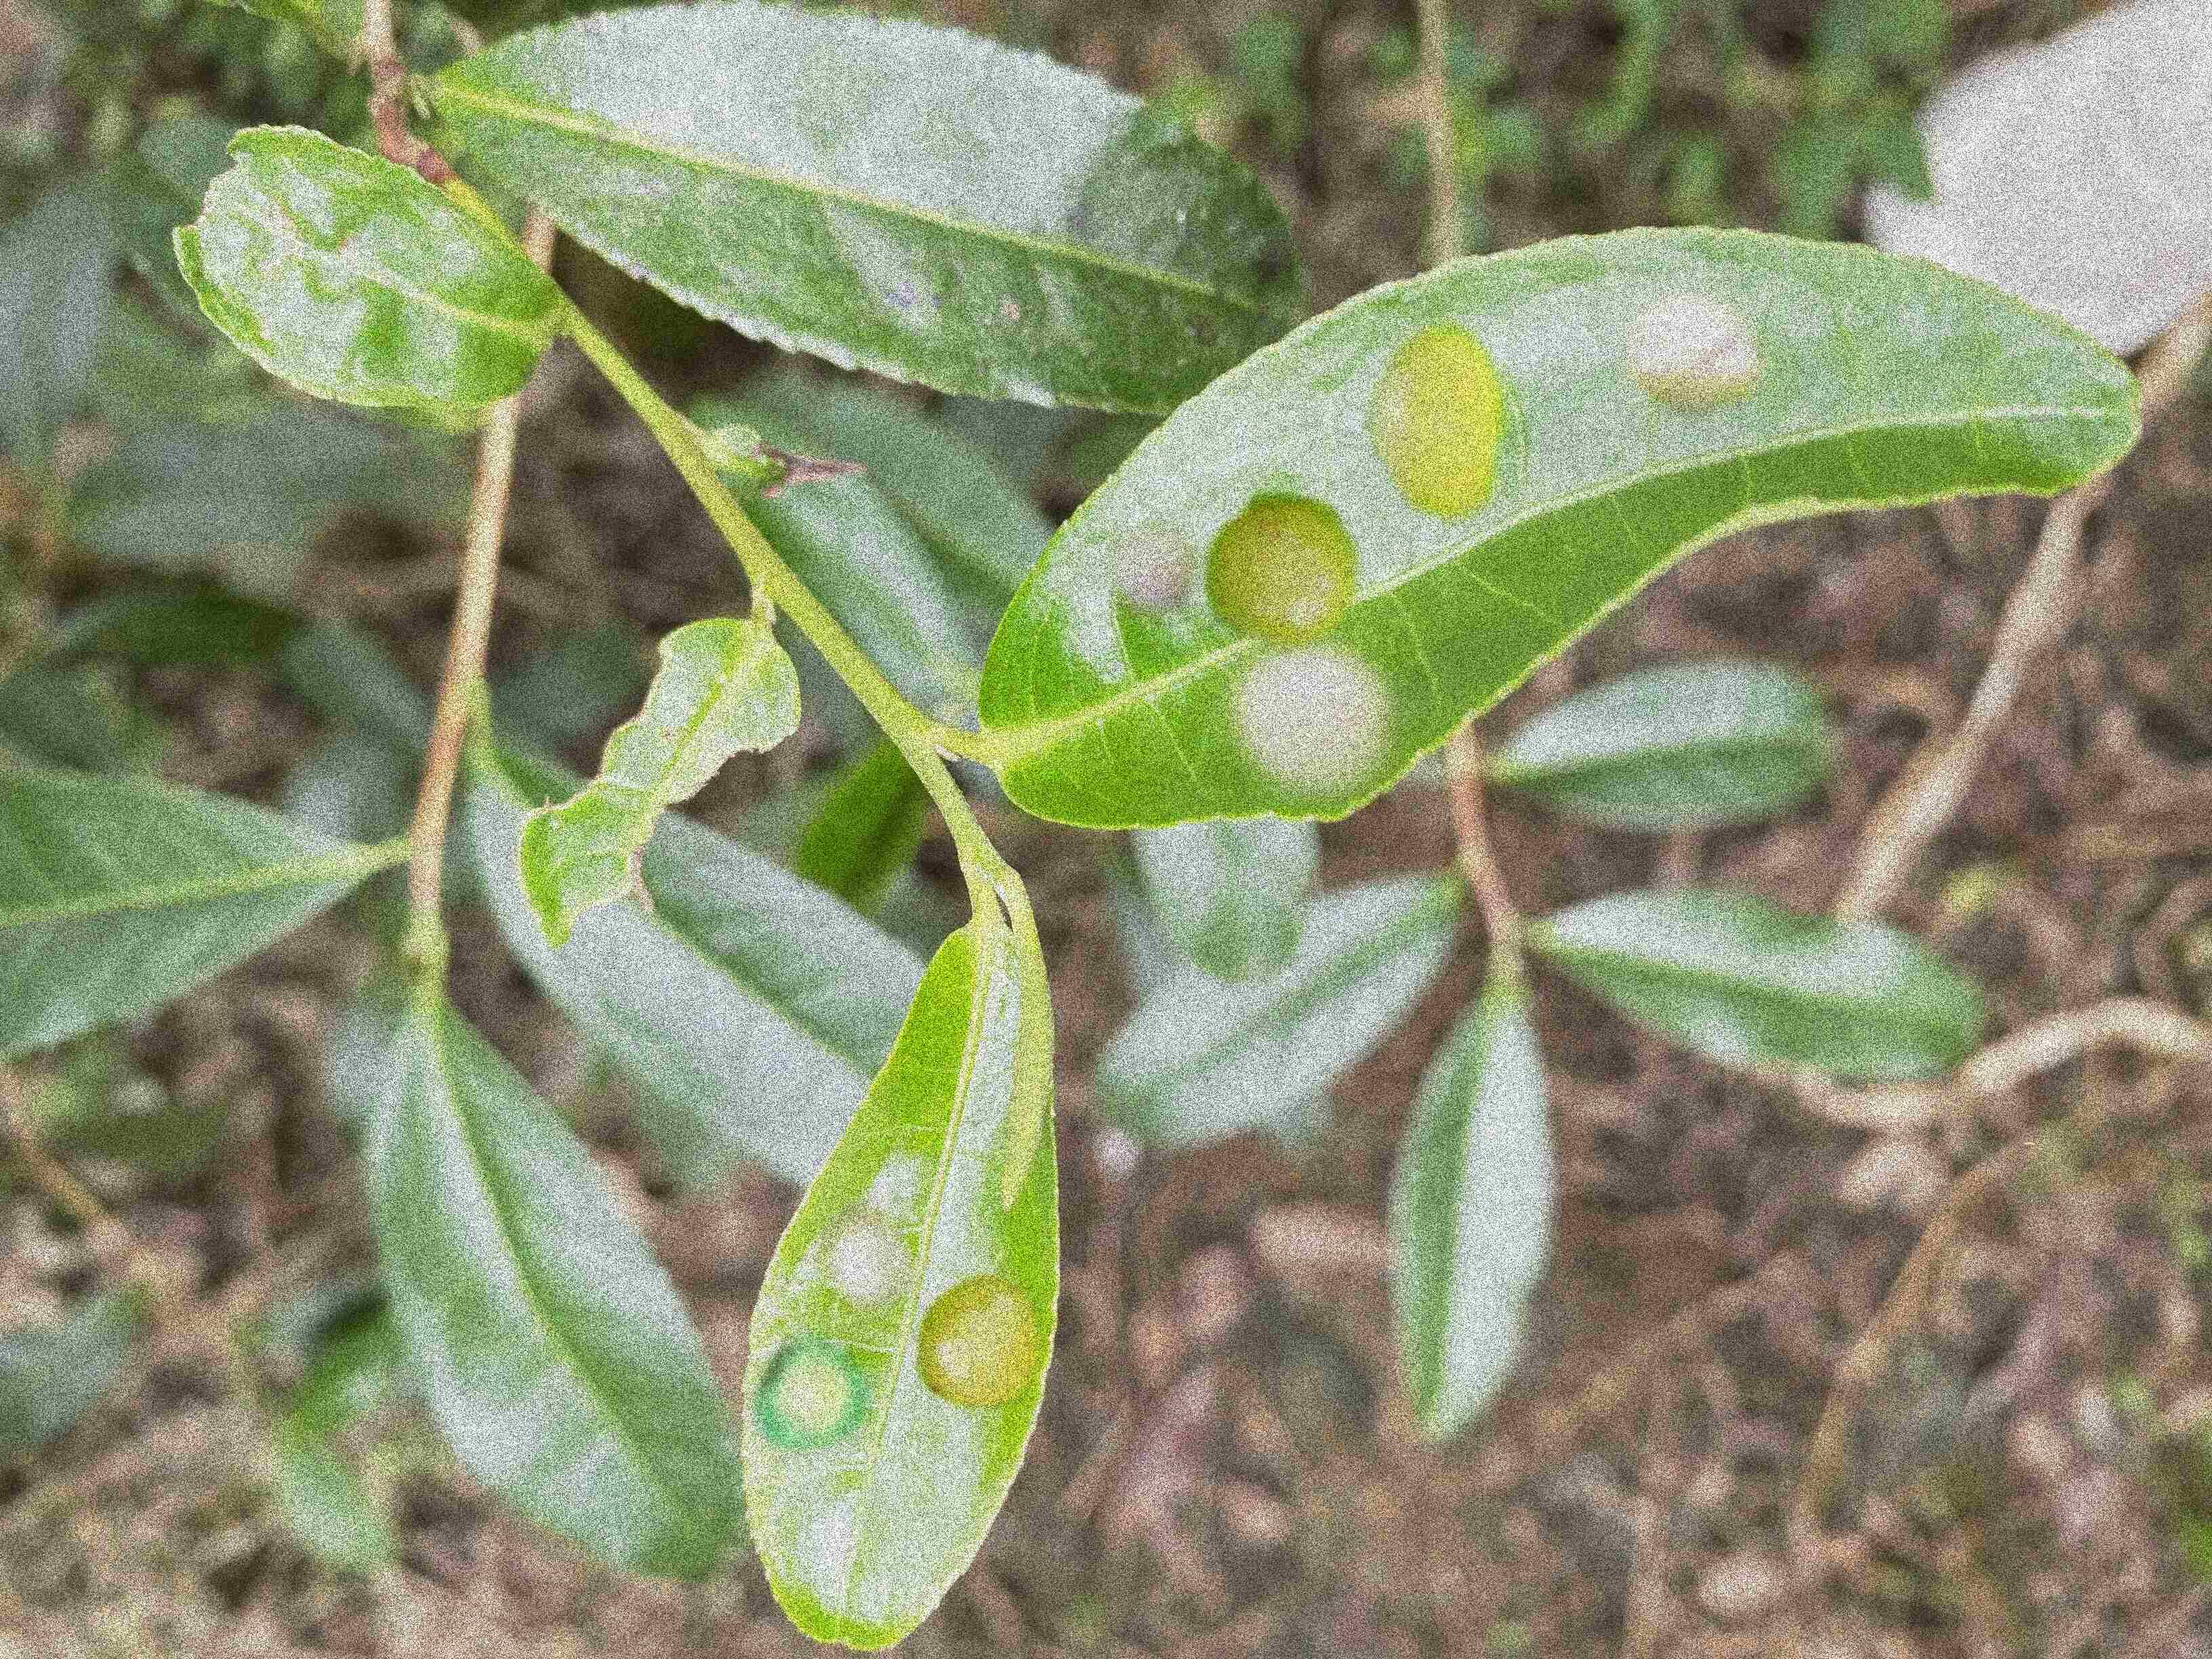chabing_high: (979, 225, 2144, 829), (733, 918, 1064, 1654)
chihuo_high: (514, 619, 803, 951)
